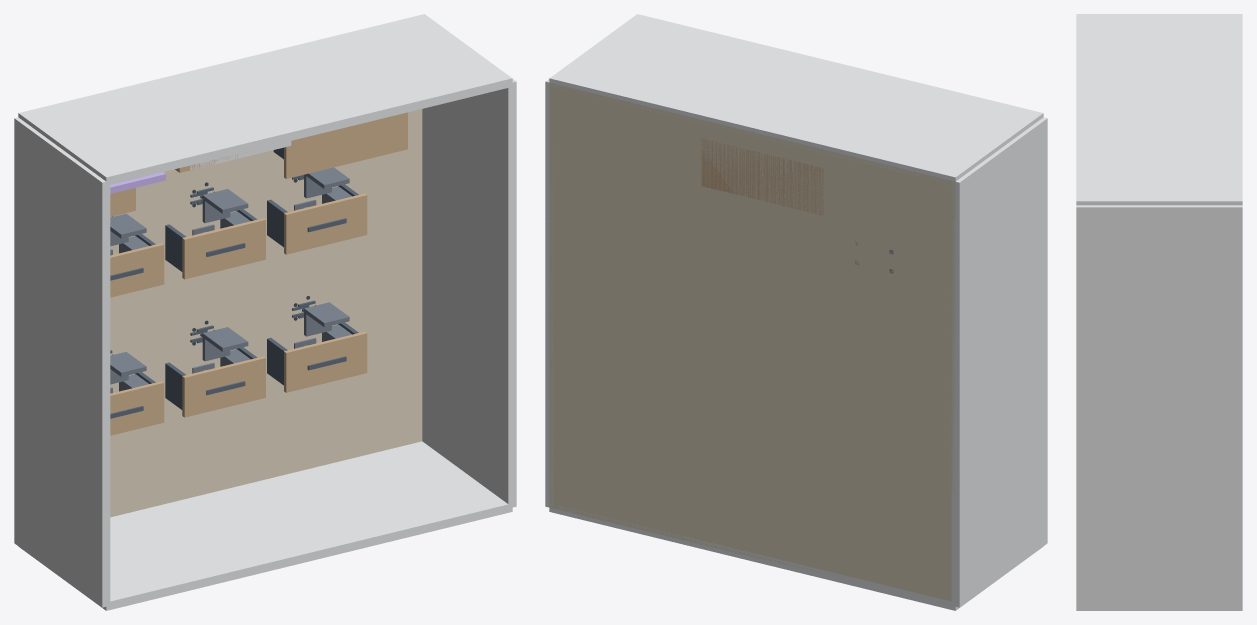
The model's file is small_office_room_assembled.glb.
3 views of the same model, side by side, from view 1: azimuth 30°, elevation 25°; view 2: azimuth 150°, elevation 25°; view 3: azimuth 270°, elevation 25° (orthographic). The views are drawn at different scales.
Parts seen in each view (by area): view 1: floor_0, wall_left_2, wall_front_4, wall_right_3, wall_back_1, top_141, desktop_110, desktop_26, desktop_47, desktop_89, desktop_68, desktop_5 (+7 smaller); view 2: floor_0, wall_left_2, wall_front_4, desk_152, wall_back_1, wall_right_3; view 3: wall_right_3, wall_front_4, wall_back_1.
Boxes of the visible parts, left/top/right/bottom form: floor_0: left=110, top=109, right=422, bottom=517; wall_left_2: left=14, top=117, right=110, bottom=607; wall_front_4: left=18, top=14, right=512, bottom=184; wall_right_3: left=422, top=79, right=516, bottom=507; wall_back_1: left=18, top=441, right=512, bottom=610; top_141: left=284, top=112, right=407, bottom=178; desktop_110: left=284, top=193, right=367, bottom=254; desktop_26: left=182, top=356, right=265, bottom=417; desktop_47: left=284, top=331, right=367, bottom=392; desktop_89: left=182, top=218, right=265, bottom=279; desktop_68: left=110, top=243, right=164, bottom=297; desktop_5: left=110, top=381, right=164, bottom=435; floor_0: left=549, top=83, right=955, bottom=601; wall_left_2: left=951, top=117, right=1047, bottom=607; wall_front_4: left=549, top=14, right=1043, bottom=183; desk_152: left=701, top=138, right=823, bottom=215; wall_back_1: left=549, top=503, right=1043, bottom=610; wall_right_3: left=545, top=79, right=553, bottom=507; wall_right_3: left=1076, top=205, right=1242, bottom=608; wall_front_4: left=1076, top=14, right=1242, bottom=205; wall_back_1: left=1076, top=609, right=1242, bottom=610.
Size of the model in its own units: 8.16 by 8.16 by 3.
